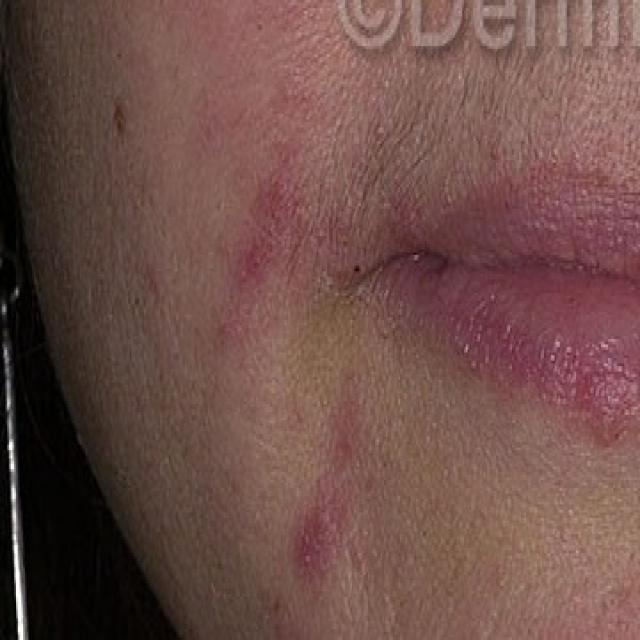Rosacea: (223, 146, 303, 328)
